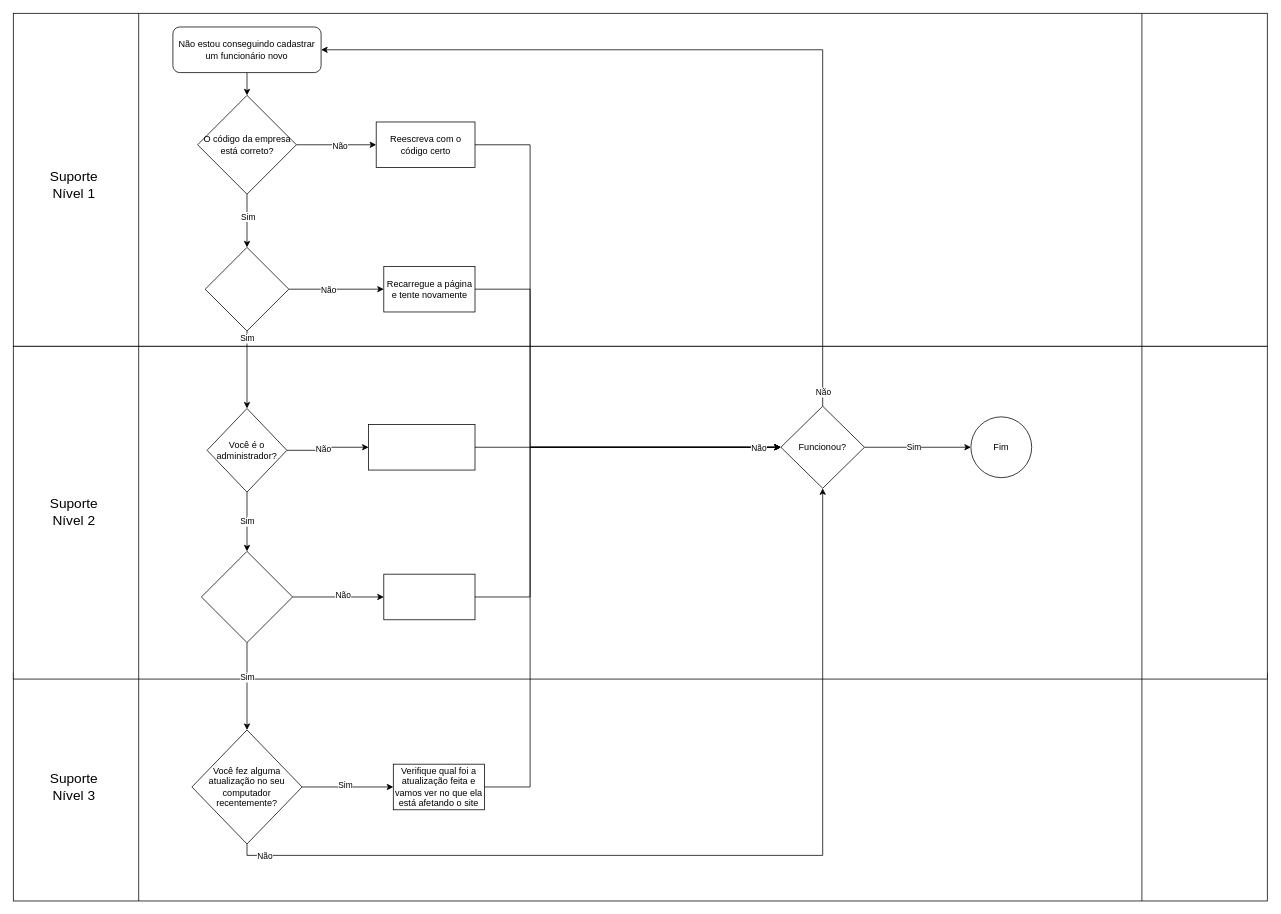
This 1281x914 diagram has some shape labels left out. The centre of each missing label's shape, as x and y in pixels:
"Esse funcionário ja foi adicionado?" goes at point (247, 597).
"Já Recarregou a Página?" goes at point (246, 289).
"Logue com o usuário administrador e tente novamente" goes at point (421, 447).
"Tente adicionar novamente" goes at point (429, 596).
